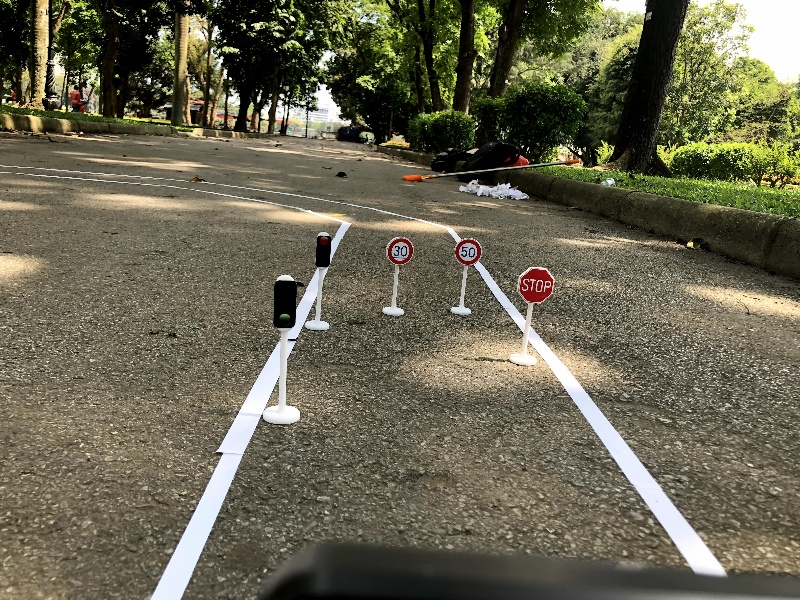Green: (262, 275, 302, 426)
Limit 30: (381, 235, 415, 318)
Limit 50: (449, 237, 483, 315)
Red: (304, 231, 332, 332)
Stop: (507, 266, 555, 367)
